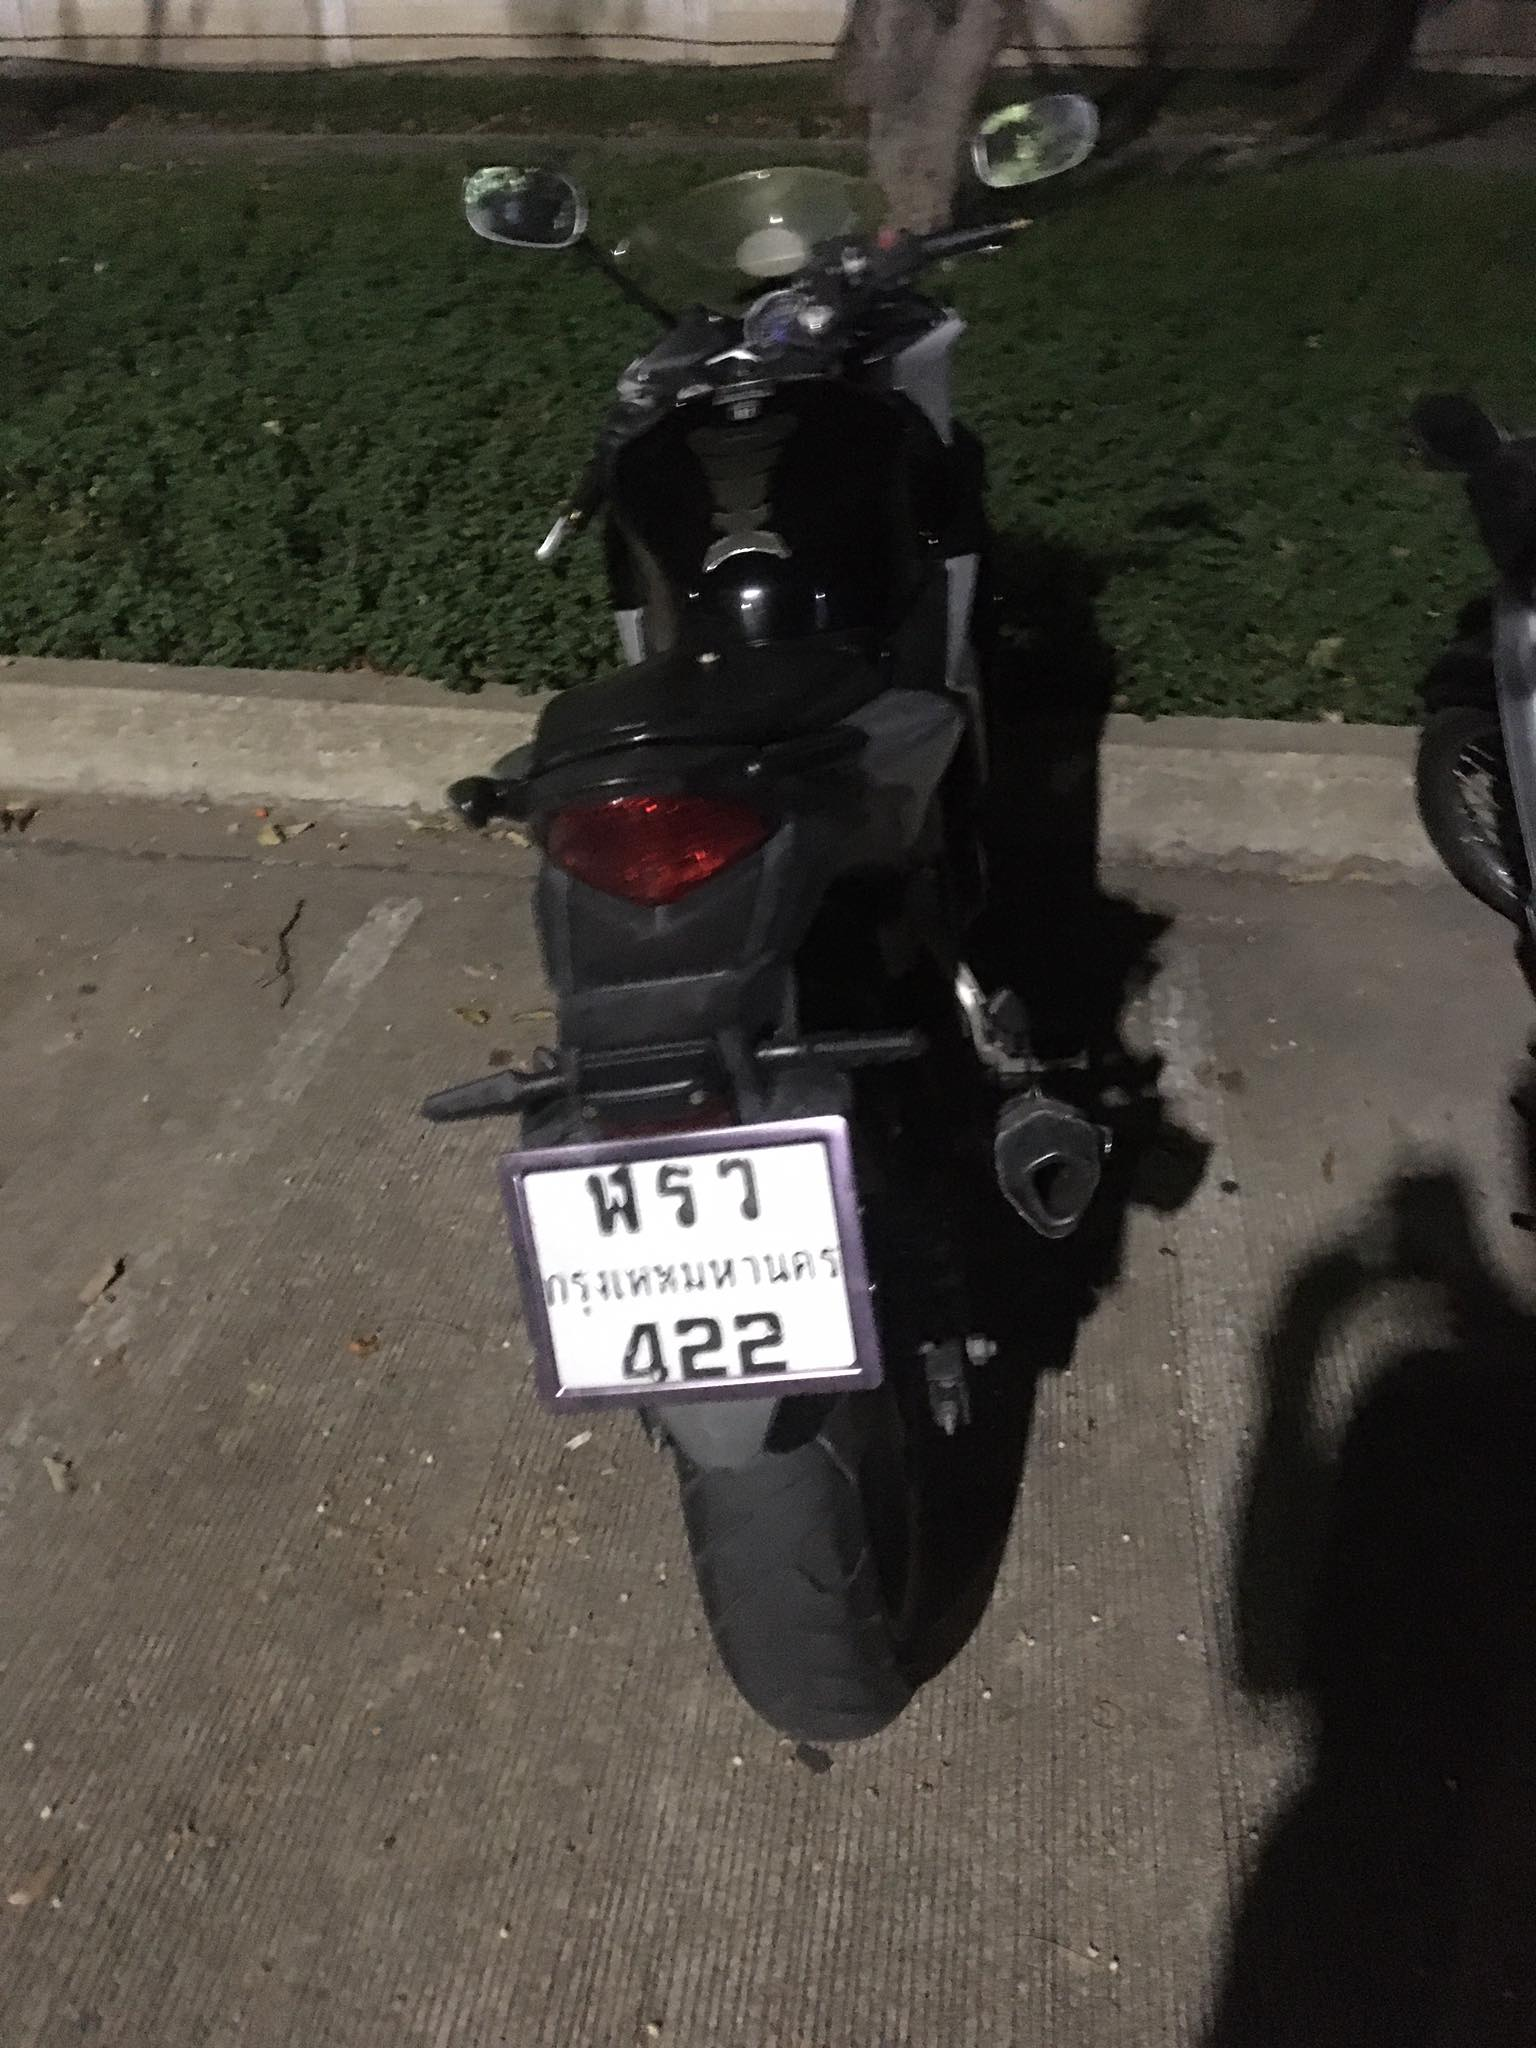line1: (582, 1145, 770, 1238)
line2: (536, 1235, 844, 1314)
line3: (594, 1311, 813, 1388)
